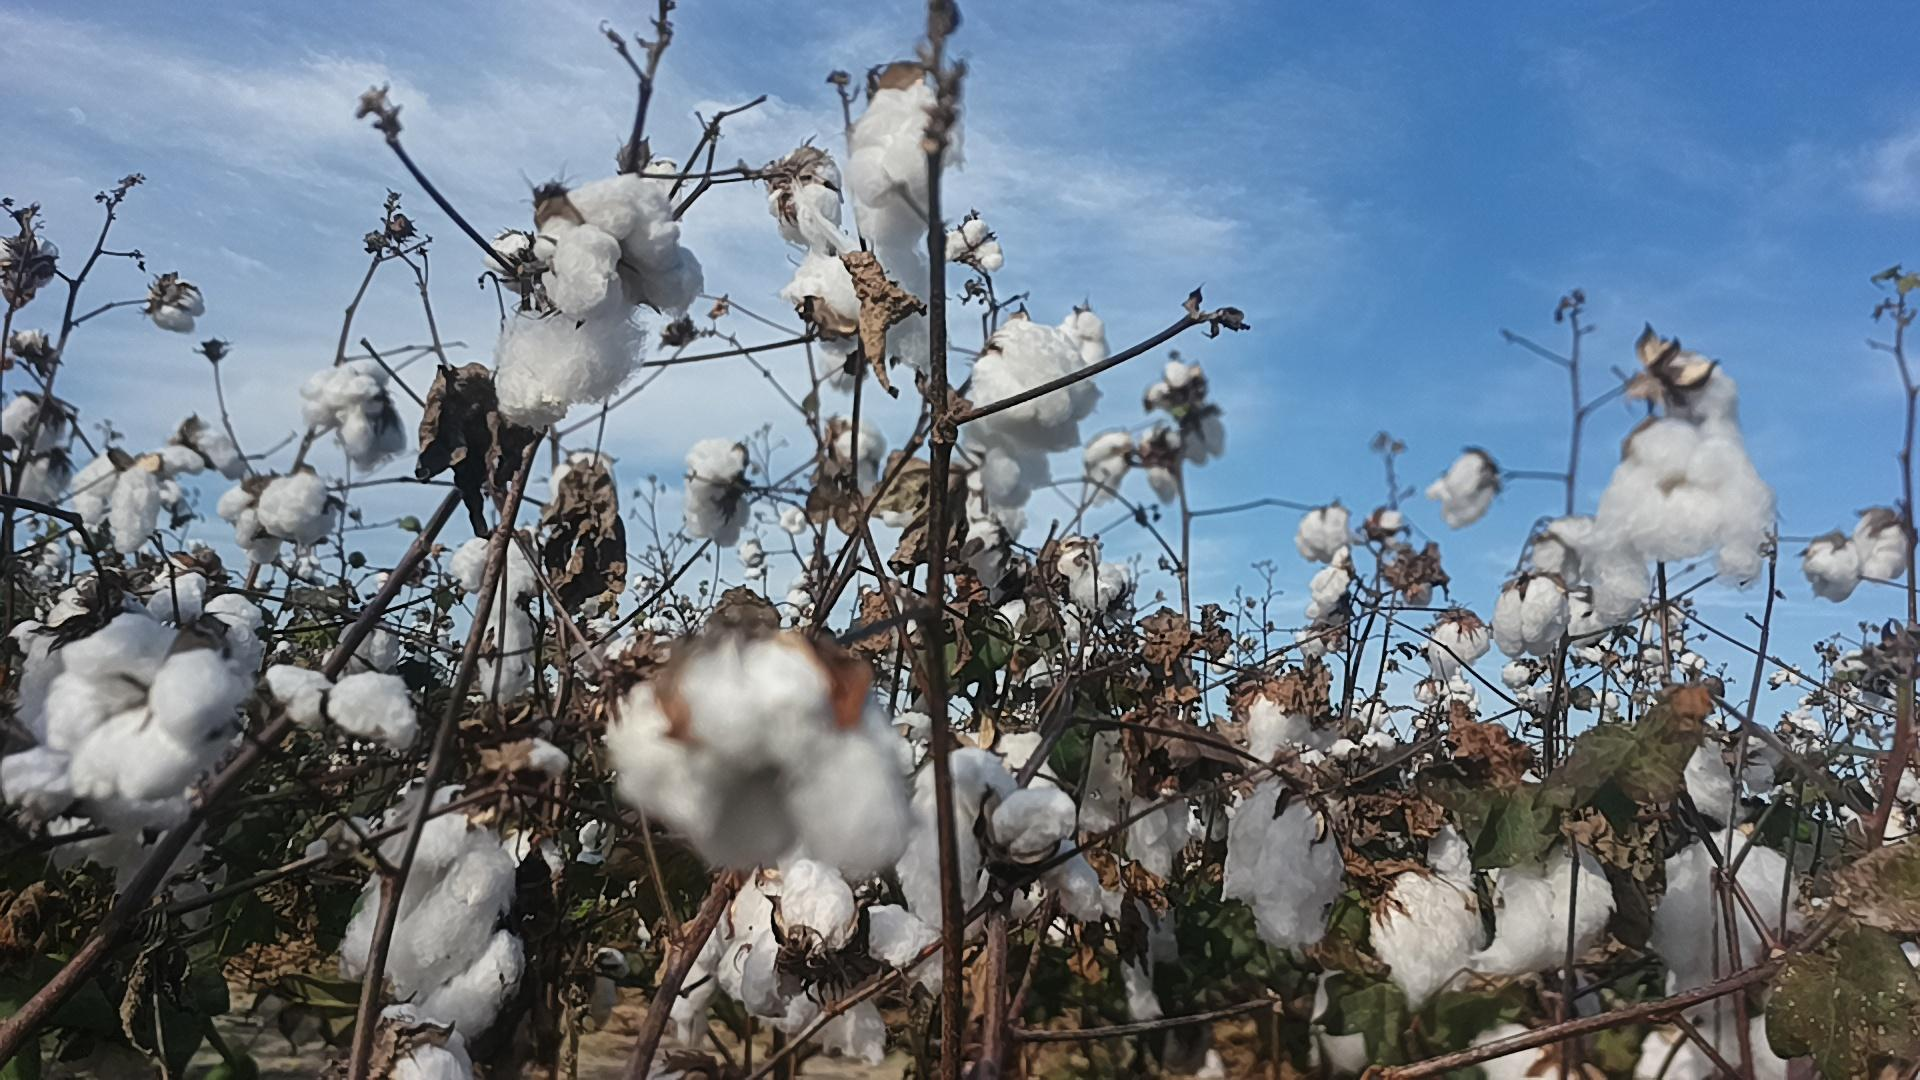cotton_ready: (609, 646, 918, 873), (1588, 415, 1774, 625), (44, 616, 248, 799), (849, 70, 968, 369), (336, 815, 510, 997), (737, 858, 887, 1067), (1436, 840, 1621, 975), (968, 323, 1102, 506), (1651, 833, 1808, 981), (16, 576, 150, 748), (534, 173, 703, 305), (1220, 775, 1342, 947), (906, 748, 1007, 927), (498, 297, 646, 418), (44, 833, 224, 932), (1638, 968, 1795, 1080), (992, 785, 1110, 926), (1050, 890, 1178, 1018), (1378, 868, 1494, 1005), (0, 750, 198, 831), (384, 931, 527, 1036), (74, 448, 207, 556), (460, 535, 538, 707), (1005, 720, 1125, 827), (1538, 521, 1658, 621), (786, 255, 870, 397), (149, 572, 270, 670), (266, 669, 418, 742), (305, 364, 406, 469), (1687, 732, 1779, 832), (1124, 761, 1200, 877), (673, 915, 737, 1051), (680, 434, 750, 553), (860, 905, 951, 996), (961, 479, 1033, 589), (769, 153, 843, 249), (1242, 691, 1323, 773), (1304, 971, 1369, 1072), (1001, 601, 1076, 688), (1477, 1025, 1593, 1080), (1656, 356, 1742, 425), (262, 468, 343, 541), (1495, 578, 1565, 655), (1055, 539, 1125, 612), (382, 1030, 476, 1080), (835, 413, 887, 501), (219, 475, 262, 547)
